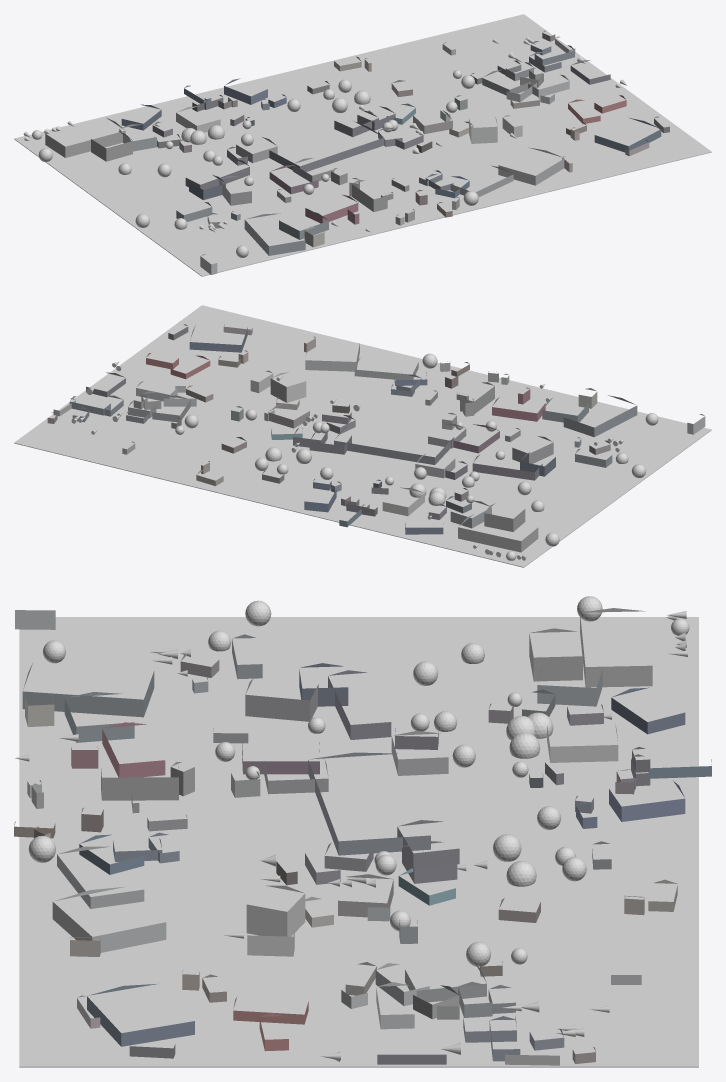
The model's file is scene_bcf59146-fa43-4d65-a1e5-85cf250382cf.glb.
3 renders of one model, top to bottom at view 1: azimuth 30°, elevation 25°; view 2: azimuth 150°, elevation 25°; view 3: azimuth 270°, elevation 25°, orthographic. The views are drawn at different scales.
Visible parts, largest first — view 1: Ground_Base, BLD-001, BLD-003, BLD-002, BLD-005, BLD-012, BLD-004, BLD-030, BLD-054, BLD-007, BLD-006, BLD-014 (+2 smaller); view 2: Ground_Base, BLD-003, BLD-001, BLD-005, BLD-054, BLD-007, BLD-012, BLD-002, BLD-037, BLD-004, BLD-014, BLD-008 (+2 smaller); view 3: Ground_Base, BLD-005, BLD-002, BLD-001, BLD-030, BLD-054, BLD-004, BLD-003, BLD-037, BLD-012, BLD-021, BLD-010 (+19 smaller).
Part boxes in pixels (<box>): Ground_Base: <box>14,14,711,276</box>; BLD-001: <box>269,121,384,171</box>; BLD-003: <box>45,118,125,157</box>; BLD-002: <box>498,147,564,185</box>; BLD-005: <box>244,213,305,255</box>; BLD-012: <box>91,131,132,161</box>; BLD-004: <box>594,117,661,152</box>; BLD-030: <box>352,180,387,211</box>; BLD-054: <box>469,117,497,143</box>; BLD-007: <box>185,159,249,189</box>; BLD-006: <box>279,210,328,239</box>; BLD-014: <box>305,194,358,223</box>; Ground_Base: <box>14,305,711,567</box>; BLD-003: <box>458,514,538,552</box>; BLD-001: <box>334,421,454,464</box>; BLD-005: <box>563,395,637,437</box>; BLD-054: <box>270,372,306,402</box>; BLD-007: <box>472,455,542,480</box>; BLD-012: <box>484,503,525,531</box>; BLD-002: <box>305,343,359,371</box>; BLD-037: <box>512,436,553,463</box>; BLD-004: <box>189,326,247,352</box>; BLD-014: <box>492,397,545,421</box>; BLD-008: <box>354,357,418,379</box>; Ground_Base: <box>19,617,698,1067</box>; BLD-005: <box>22,663,154,717</box>; BLD-002: <box>52,886,166,952</box>; BLD-001: <box>308,752,430,855</box>; BLD-030: <box>101,766,178,800</box>; BLD-054: <box>246,885,305,936</box>; BLD-004: <box>87,984,194,1046</box>; BLD-003: <box>580,608,652,687</box>; BLD-037: <box>245,678,318,721</box>; BLD-012: <box>529,628,582,681</box>; BLD-021: <box>609,781,685,821</box>; BLD-010: <box>547,724,618,762</box>.
Size of the model in its own units: 342 by 14.65 by 222.
